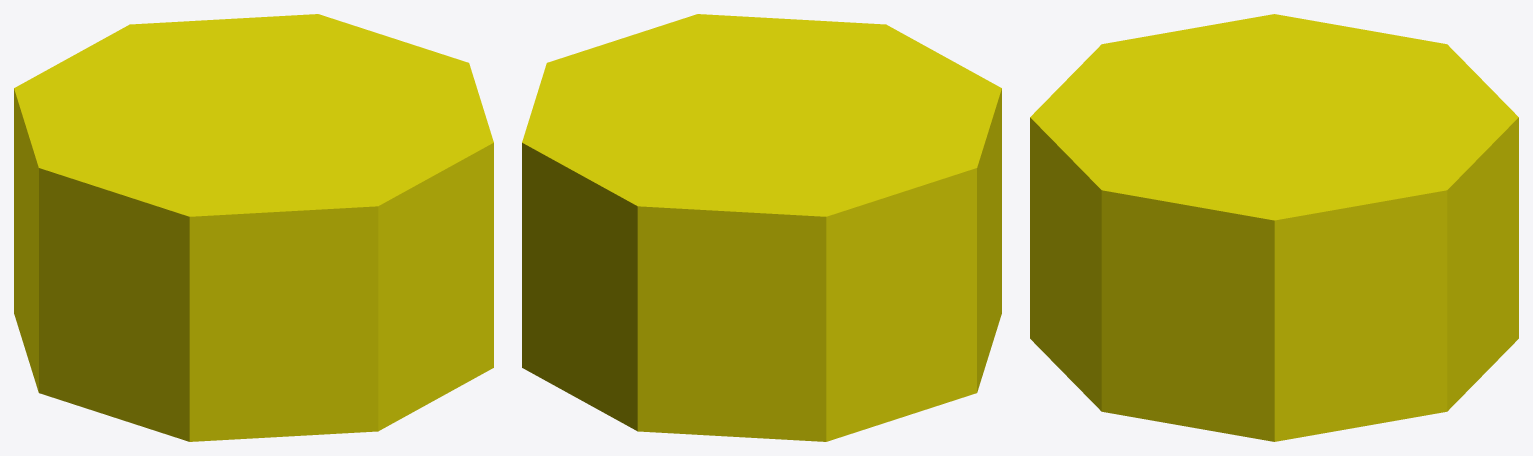
The model's file is CharactorBase.fbx.
3 views of the same model, side by side, from view 1: azimuth 30°, elevation 25°; view 2: azimuth 150°, elevation 25°; view 3: azimuth 270°, elevation 25° (orthographic).
Visible parts, largest first — view 1: Cylinder; view 2: Cylinder; view 3: Cylinder.
Part boxes in pixels (left/top/right/bottom): Cylinder: left=14, top=14, right=493, bottom=441; Cylinder: left=522, top=14, right=1001, bottom=441; Cylinder: left=1030, top=14, right=1518, bottom=441.
Bounding box in the file's own units: 50 × 50 × 25.
